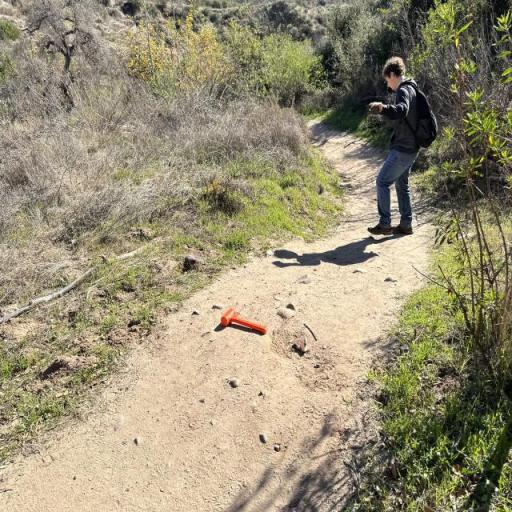mallet: (220, 308, 268, 334)
